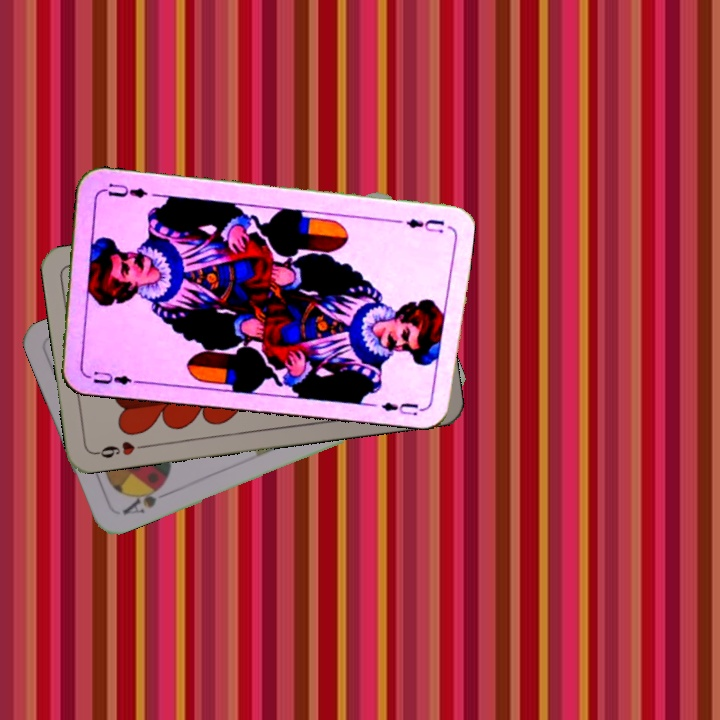EU: (89, 365, 141, 387), (401, 214, 447, 236)
H9: (91, 437, 150, 461)
SA: (118, 479, 167, 518)
